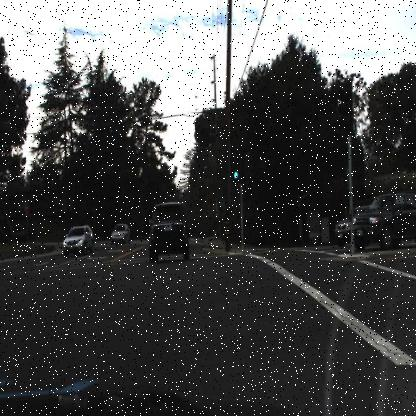car: (350, 191, 415, 250), (148, 197, 190, 261), (332, 199, 375, 248), (61, 222, 98, 258), (109, 222, 131, 244)
trafficLight-Green: (230, 158, 240, 183)
